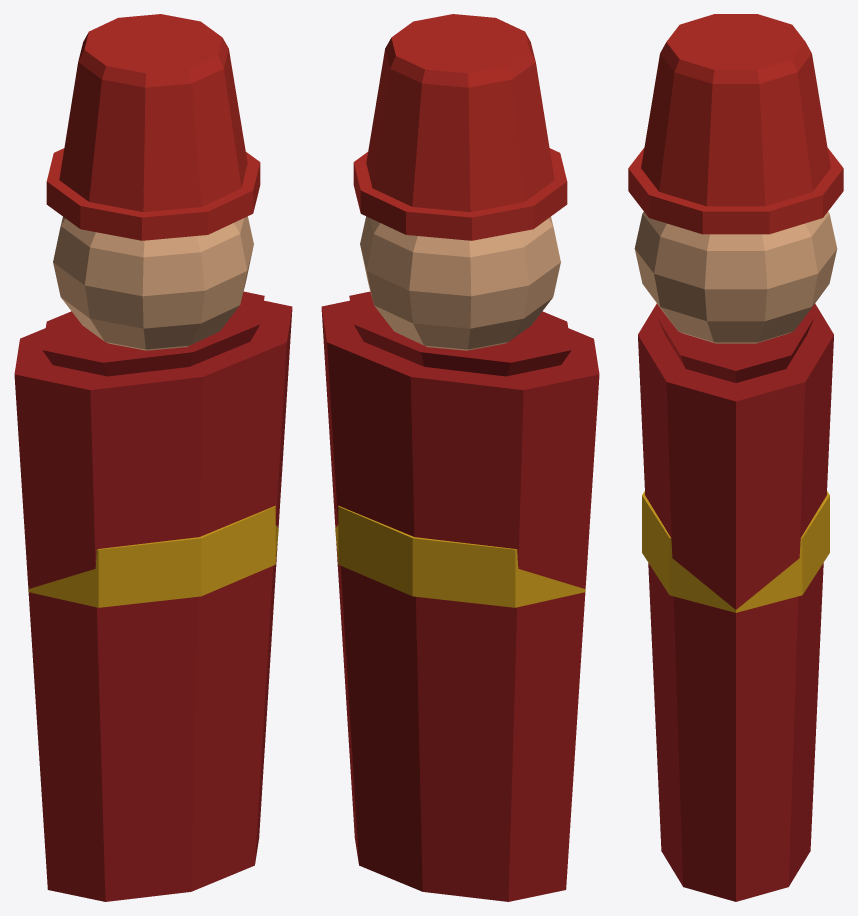
The model's file is band_figure.glb.
3 views of the same model, side by side, from view 1: azimuth 30°, elevation 25°; view 2: azimuth 150°, elevation 25°; view 3: azimuth 270°, elevation 25° (orthographic).
Parts seen in each view (by area): view 1: body, hat, head, sash; view 2: body, hat, head, sash; view 3: body, hat, head, sash.
Part boxes in pixels (left/top/right/bottom): body: left=14, top=291, right=292, bottom=901; hat: left=46, top=14, right=260, bottom=240; head: left=53, top=216, right=253, bottom=350; sash: left=28, top=505, right=278, bottom=607; body: left=321, top=291, right=599, bottom=901; hat: left=353, top=14, right=567, bottom=240; head: left=360, top=216, right=560, bottom=350; sash: left=335, top=505, right=585, bottom=607; body: left=638, top=303, right=833, bottom=901; hat: left=628, top=14, right=843, bottom=234; head: left=634, top=212, right=837, bottom=343; sash: left=642, top=491, right=829, bottom=612.
Size of the model in its own units: 0.5 by 1.41 by 0.34.
